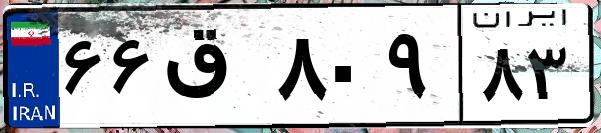0: (330, 28, 385, 110)
3: (525, 38, 570, 115)
6: (57, 26, 110, 100), (110, 28, 158, 98)
8: (270, 28, 330, 110), (475, 38, 525, 113)
9: (385, 28, 445, 110)
ق: (158, 20, 270, 120)
